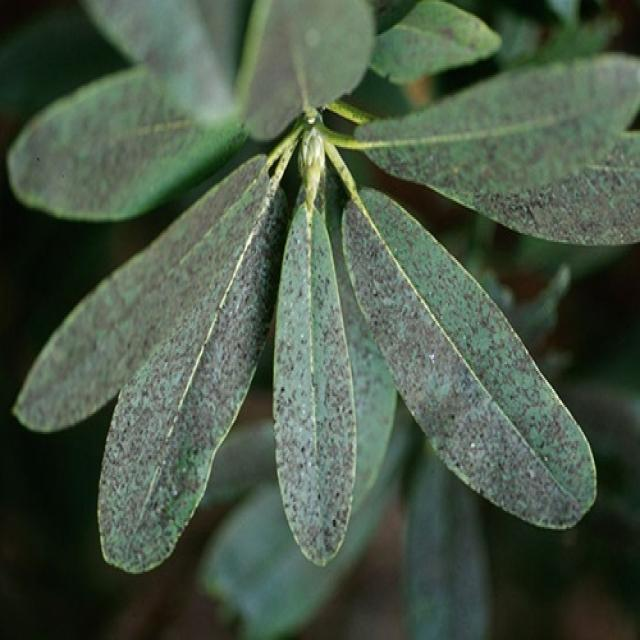Sooty Mold: (5, 0, 638, 579)
